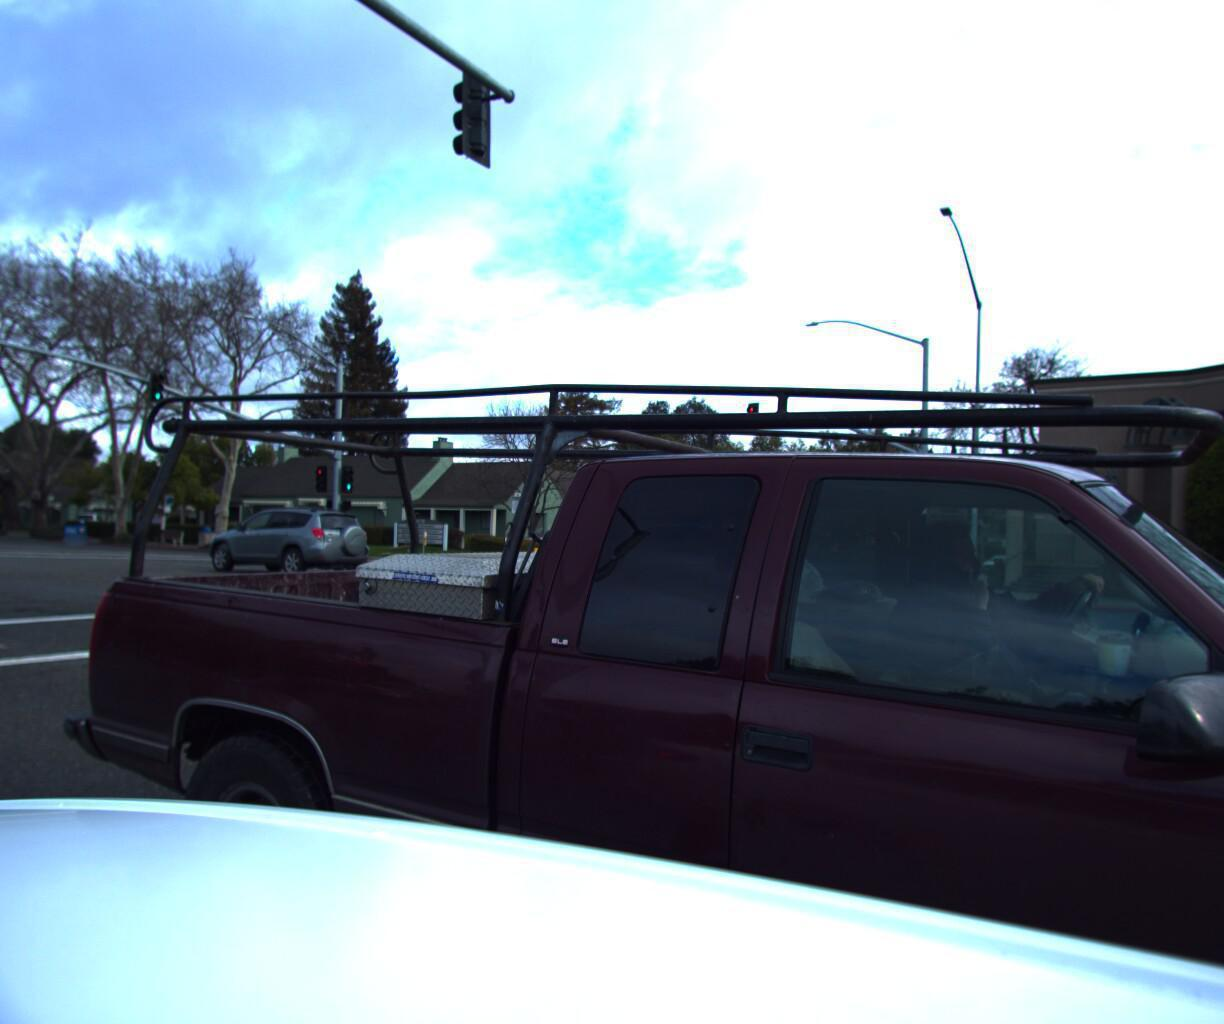car: (37, 136, 1224, 1024), (506, 522, 835, 656), (794, 541, 1007, 615), (195, 504, 383, 584), (1181, 524, 1224, 769)
